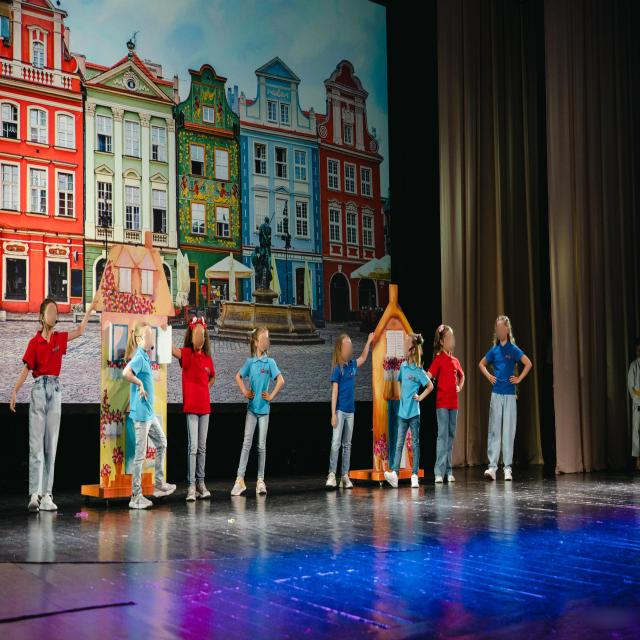Person: (16, 287, 80, 524), (316, 306, 379, 503), (225, 322, 289, 506), (118, 318, 176, 518), (478, 304, 533, 491), (381, 320, 435, 497), (181, 309, 223, 511), (427, 317, 472, 486)
